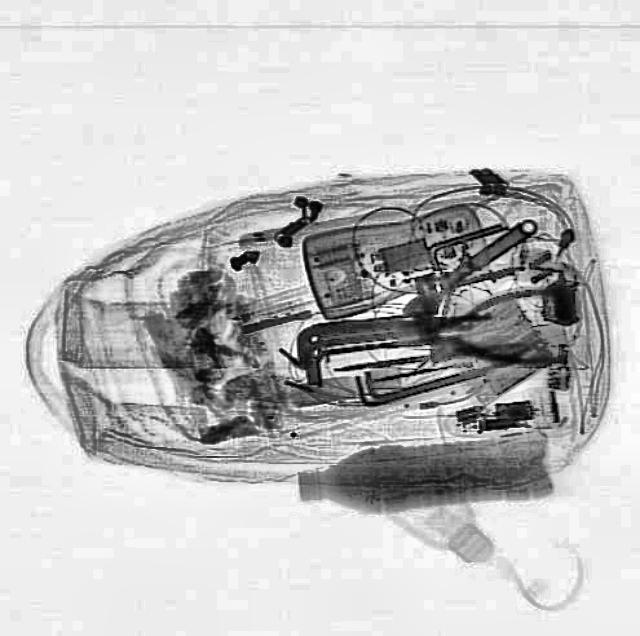Pliers: (402, 284, 560, 368)
Wrench: (394, 206, 546, 332)
